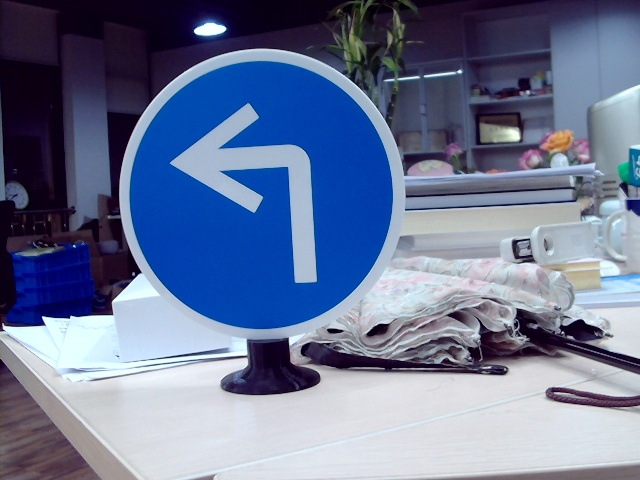turn_left: (174, 95, 335, 298)
